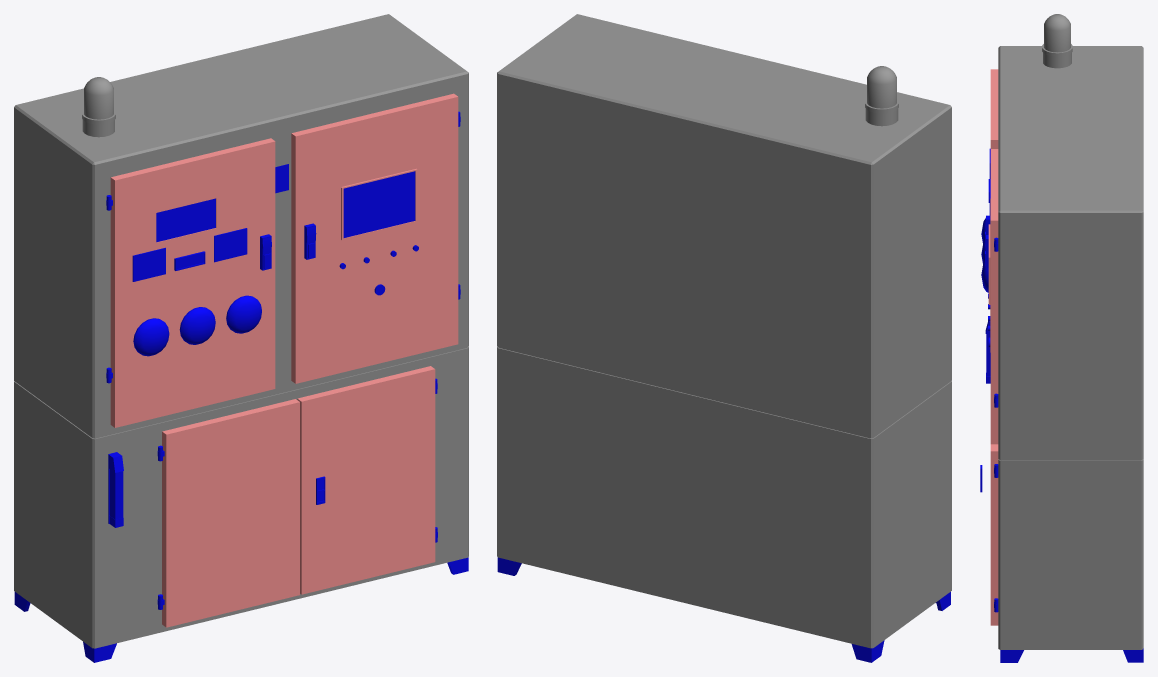
Rendered from qiliumokongzhitai.FBX.
3 renders of one model, left to right at view 1: azimuth 30°, elevation 25°; view 2: azimuth 150°, elevation 25°; view 3: azimuth 270°, elevation 25°, orthographic. The views are drawn at different scales.
Parts seen in each view (by area): view 1: Box001, Box003, Box002, Box006, Box007, Box073, 对象013; view 2: Box001, 对象013, Box073; view 3: Box001, Box003, Box073, Box007, 对象013, Box002, Cylinder018.
Part boxes in pixels (x1=…): Box001: x1=14, y1=14, x2=468, y2=648; Box003: x1=291, y1=93, x2=458, y2=383; Box002: x1=110, y1=138, x2=275, y2=427; Box006: x1=162, y1=399, x2=299, y2=627; Box007: x1=297, y1=366, x2=435, y2=594; Box073: x1=14, y1=111, x2=468, y2=662; 对象013: x1=84, y1=77, x2=113, y2=119; Box001: x1=497, y1=14, x2=951, y2=648; 对象013: x1=867, y1=66, x2=896, y2=108; Box073: x1=497, y1=557, x2=950, y2=662; Box001: x1=998, y1=46, x2=1143, y2=649; Box003: x1=988, y1=149, x2=998, y2=444; Box073: x1=980, y1=148, x2=1143, y2=662; Box007: x1=990, y1=444, x2=998, y2=625; 对象013: x1=1044, y1=14, x2=1070, y2=52; Box002: x1=990, y1=69, x2=998, y2=148; Cylinder018: x1=1042, y1=44, x2=1072, y2=68.
Size of the model in its own units: 63.93 by 89.46 by 26.56.
